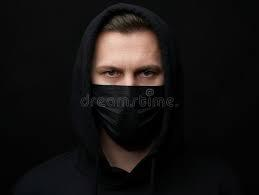mask: (88, 79, 173, 149)
scarf-kerchief: (77, 0, 182, 165)
